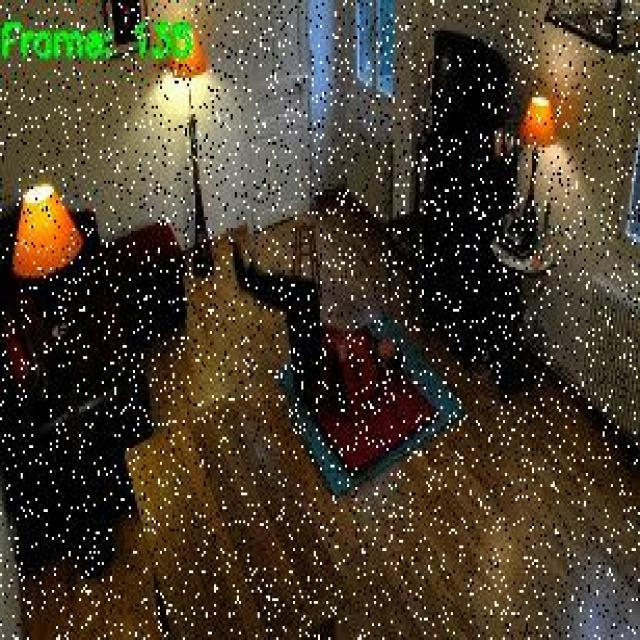fall: (231, 233, 403, 418)
